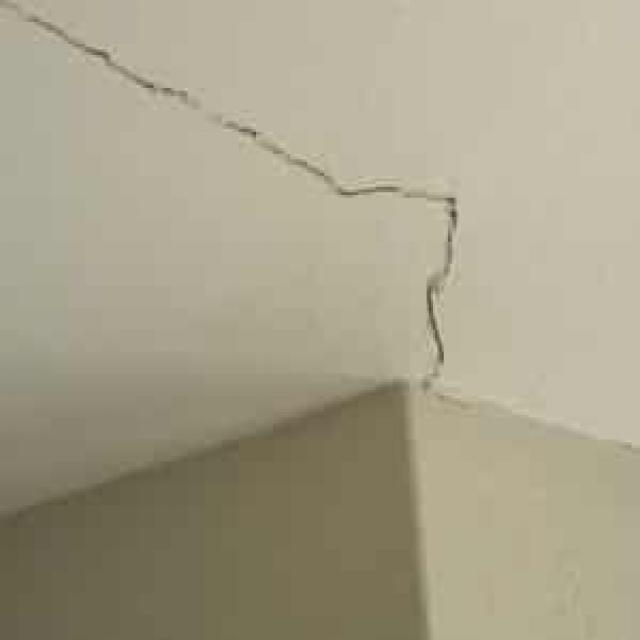Crack: (2, 2, 344, 195), (345, 183, 461, 387)
